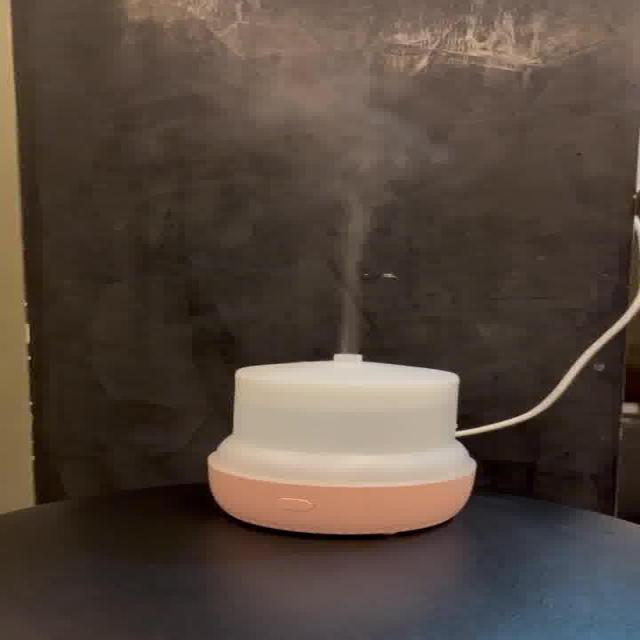fire: (292, 130, 434, 352)
